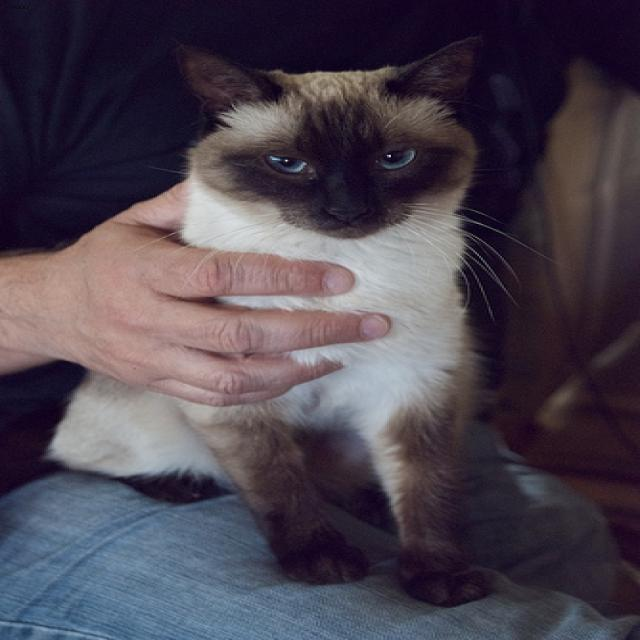Siamese: (150, 20, 499, 246)
